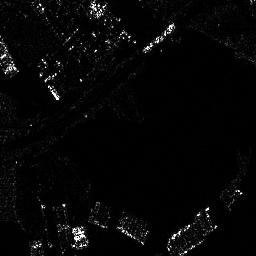ship: (142, 20, 176, 53)
